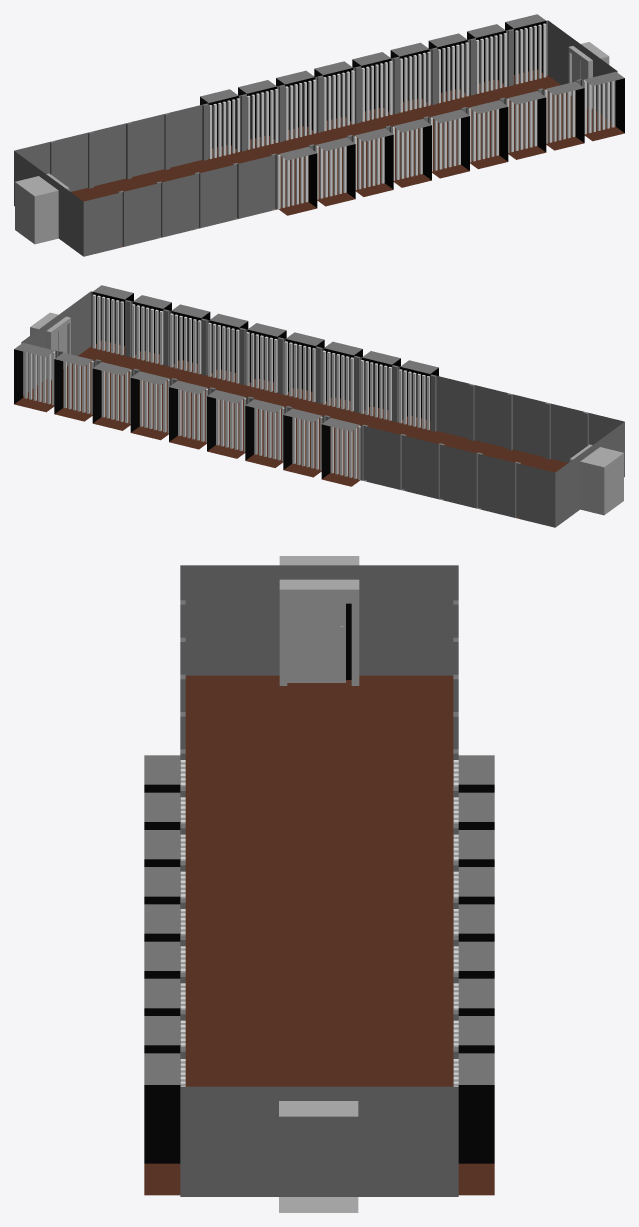
Rendered from Corredor 1.fbx.
The picture shows the model from 3 angles, top to bottom: view 1: azimuth 30°, elevation 25°; view 2: azimuth 150°, elevation 25°; view 3: azimuth 270°, elevation 25°; orthographic projection. The views are drawn at different scales.
Visible parts, largest first — view 1: Cube, Rust, Cube.002, Cube.003; view 2: Cube, Rust, Cube.002, Cube.003; view 3: Cube, Cube.002, Rust, Cube.003.
Part boxes in pixels (x1,y1,x2,y2): Cube: (14,14,624,256); Rust: (208,23,614,208); Cube.002: (15,173,69,244); Cube.003: (568,42,609,108); Cube: (14,285,624,527); Rust: (24,294,429,480); Cube.002: (569,444,623,515); Cube.003: (30,312,70,379); Cube: (144,565,494,1196); Cube.002: (279,556,359,685); Rust: (180,760,458,1086); Cube.003: (279,1101,358,1212).
Bounding box in the file's own units: 66.67 × 17.6 × 6.12.
